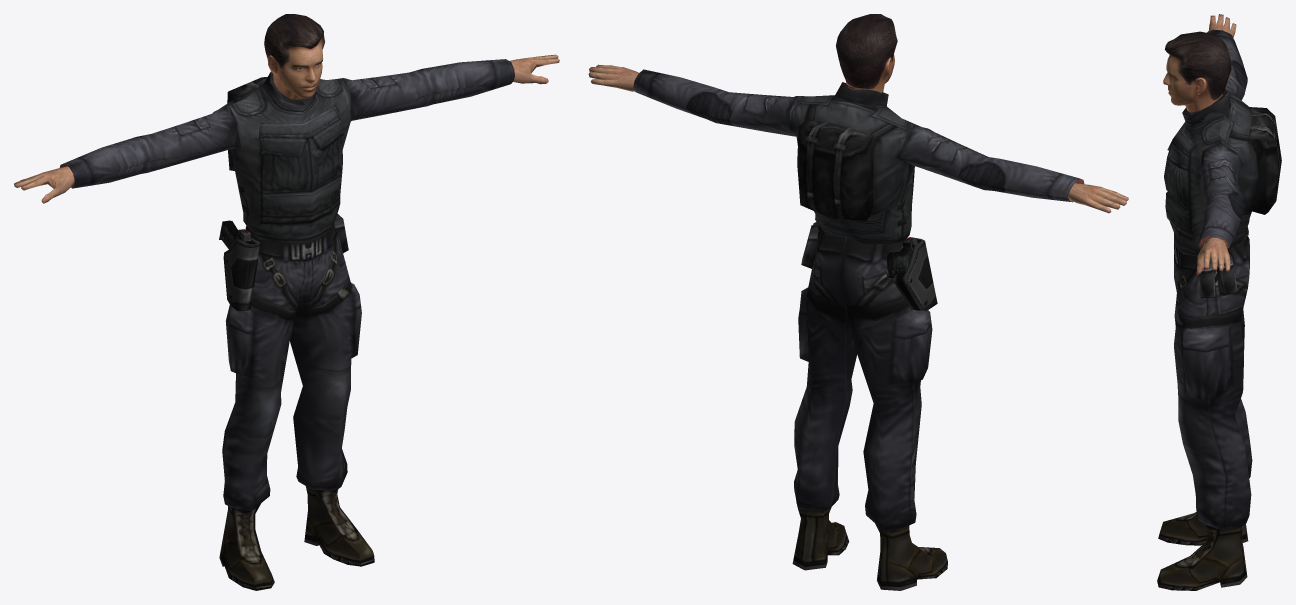
Rendered from james_bond.obj.
3 views of the same model, side by side, from view 1: azimuth 30°, elevation 25°; view 2: azimuth 150°, elevation 25°; view 3: azimuth 270°, elevation 25° (orthographic). The views are drawn at different scales.
Visible parts, largest first — view 1: bond_legs_d.png, bond_torso_d.png, bond_head_d.png, bond_hands_d.png; view 2: bond_legs_d.png, bond_torso_d.png, bond_head_d.png, bond_hands_d.png; view 3: bond_legs_d.png, bond_torso_d.png, bond_head_d.png, bond_hands_d.png.
Part boxes in pixels (left/top/right/bottom): bond_legs_d.png: left=219, top=213, right=374, bottom=590; bond_torso_d.png: left=59, top=59, right=514, bottom=243; bond_head_d.png: left=264, top=14, right=324, bottom=100; bond_hands_d.png: left=14, top=54, right=559, bottom=203; bond_legs_d.png: left=792, top=222, right=947, bottom=590; bond_torso_d.png: left=633, top=69, right=1084, bottom=244; bond_head_d.png: left=836, top=14, right=897, bottom=91; bond_hands_d.png: left=588, top=64, right=1128, bottom=213; bond_legs_d.png: left=1157, top=226, right=1252, bottom=590; bond_torso_d.png: left=1164, top=29, right=1281, bottom=256; bond_head_d.png: left=1163, top=31, right=1231, bottom=112; bond_hands_d.png: left=1196, top=14, right=1236, bottom=274.
Bounding box in the file's own units: 1.93 × 1.86 × 0.4005.
Materials: 5 (5 with a texture image).
